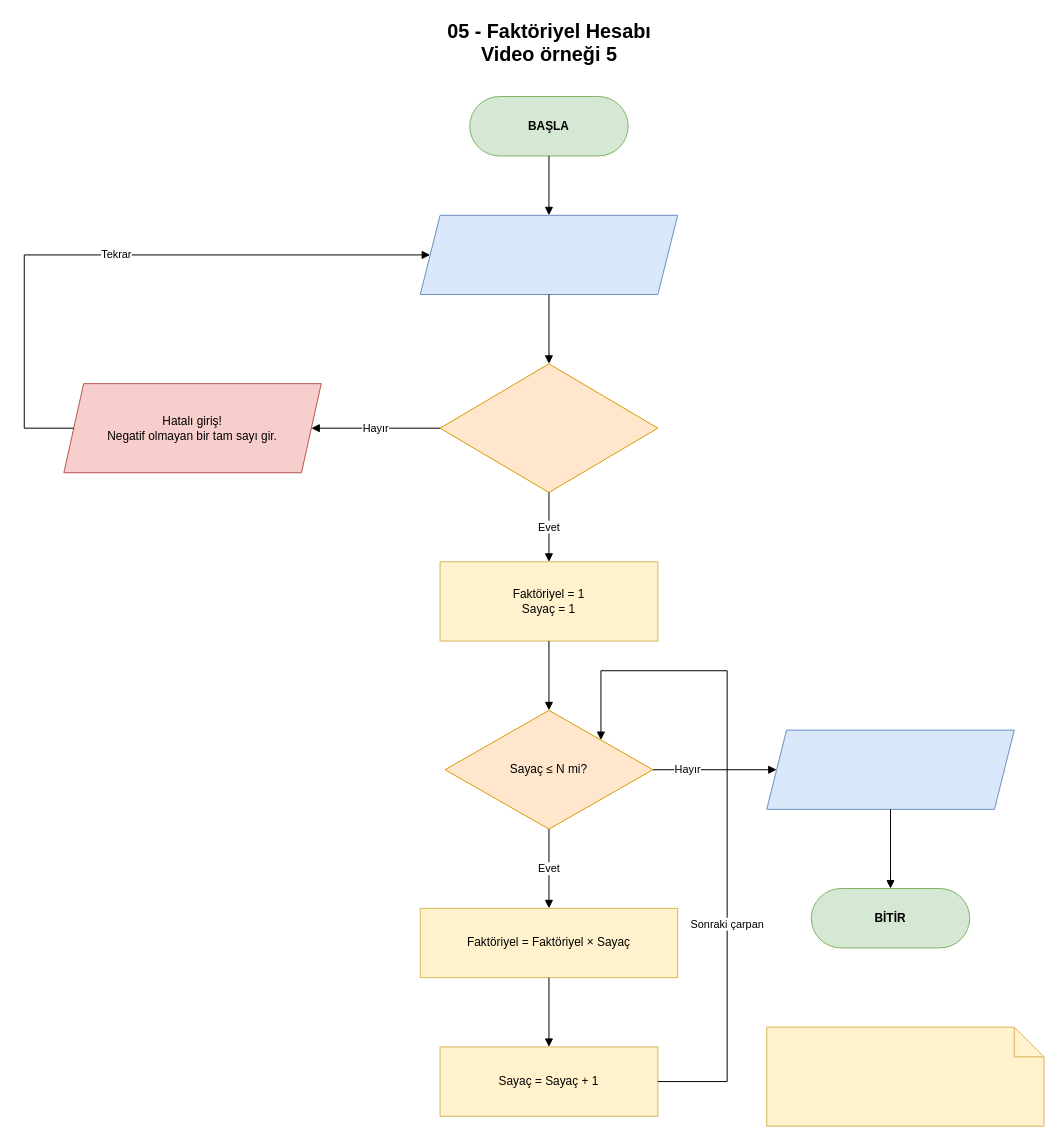
This 1061x1143 diagram has some shape labels left out. Each missing label, with the centre of its shape:
Faktöriyeli hesaplanacak tam sayıyı gir: N: (x=548, y=254)
N tam sayı ve N ≥ 0 mı?: (x=548, y=428)
N! = Faktöriyel sonucunu ekrana yaz: (x=890, y=769)
Not: 0! = 1 olduğu için N = 0 durumunda döngüye girilmeden sonuç 1 yazılır.: (x=905, y=1076)
